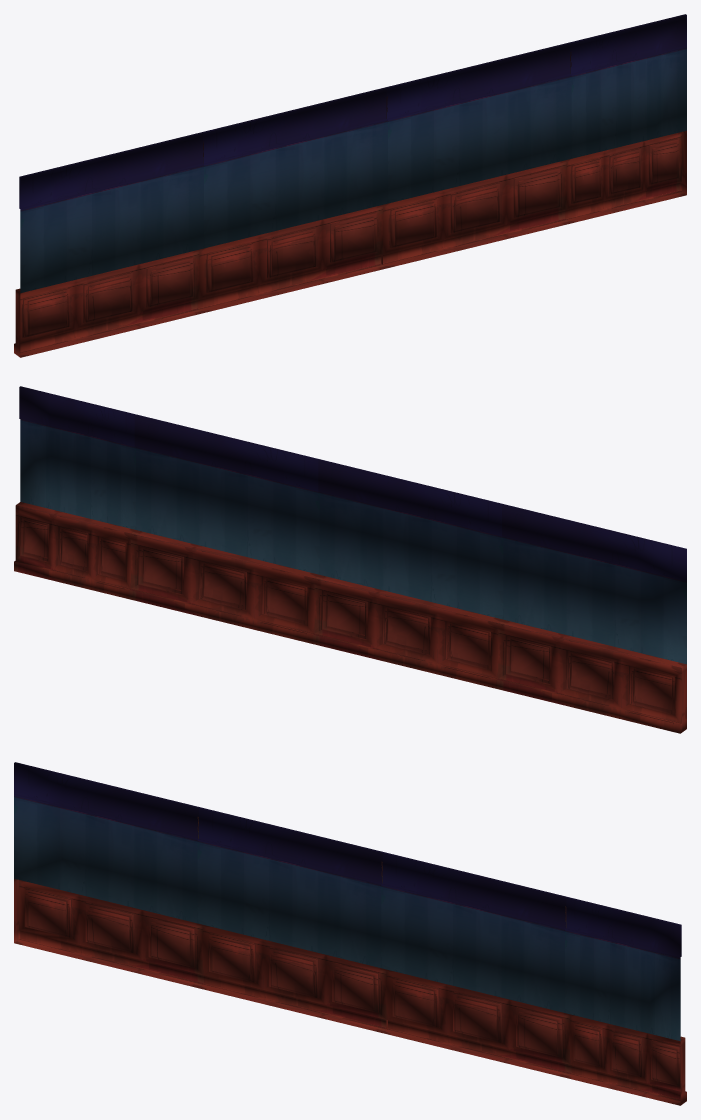
The model's file is ParedePequena.fbx.
3 views of the same model, one above another, from view 1: azimuth 30°, elevation 25°; view 2: azimuth 150°, elevation 25°; view 3: azimuth 330°, elevation 25° (orthographic).
Parts seen in each view (by area): view 1: ParedePequena.001; view 2: ParedePequena.001; view 3: ParedePequena.001.
Boxes of the visible parts, x1=… form: ParedePequena.001: x1=14, y1=14, x2=686, y2=357; ParedePequena.001: x1=14, y1=386, x2=686, y2=733; ParedePequena.001: x1=14, y1=762, x2=686, y2=1105.
Size of the model in its own units: 1219 by 20.49 by 315.
